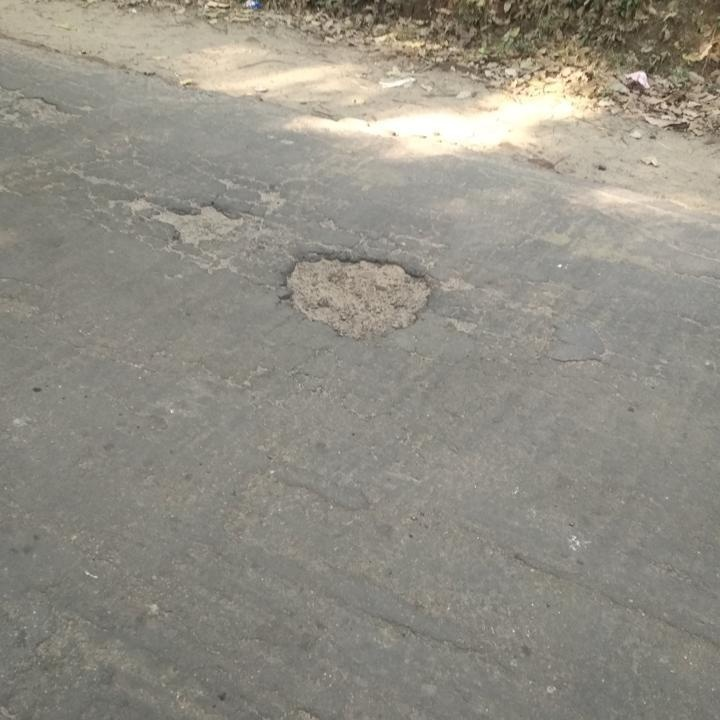pothole: (280, 246, 437, 341), (150, 198, 248, 247)
